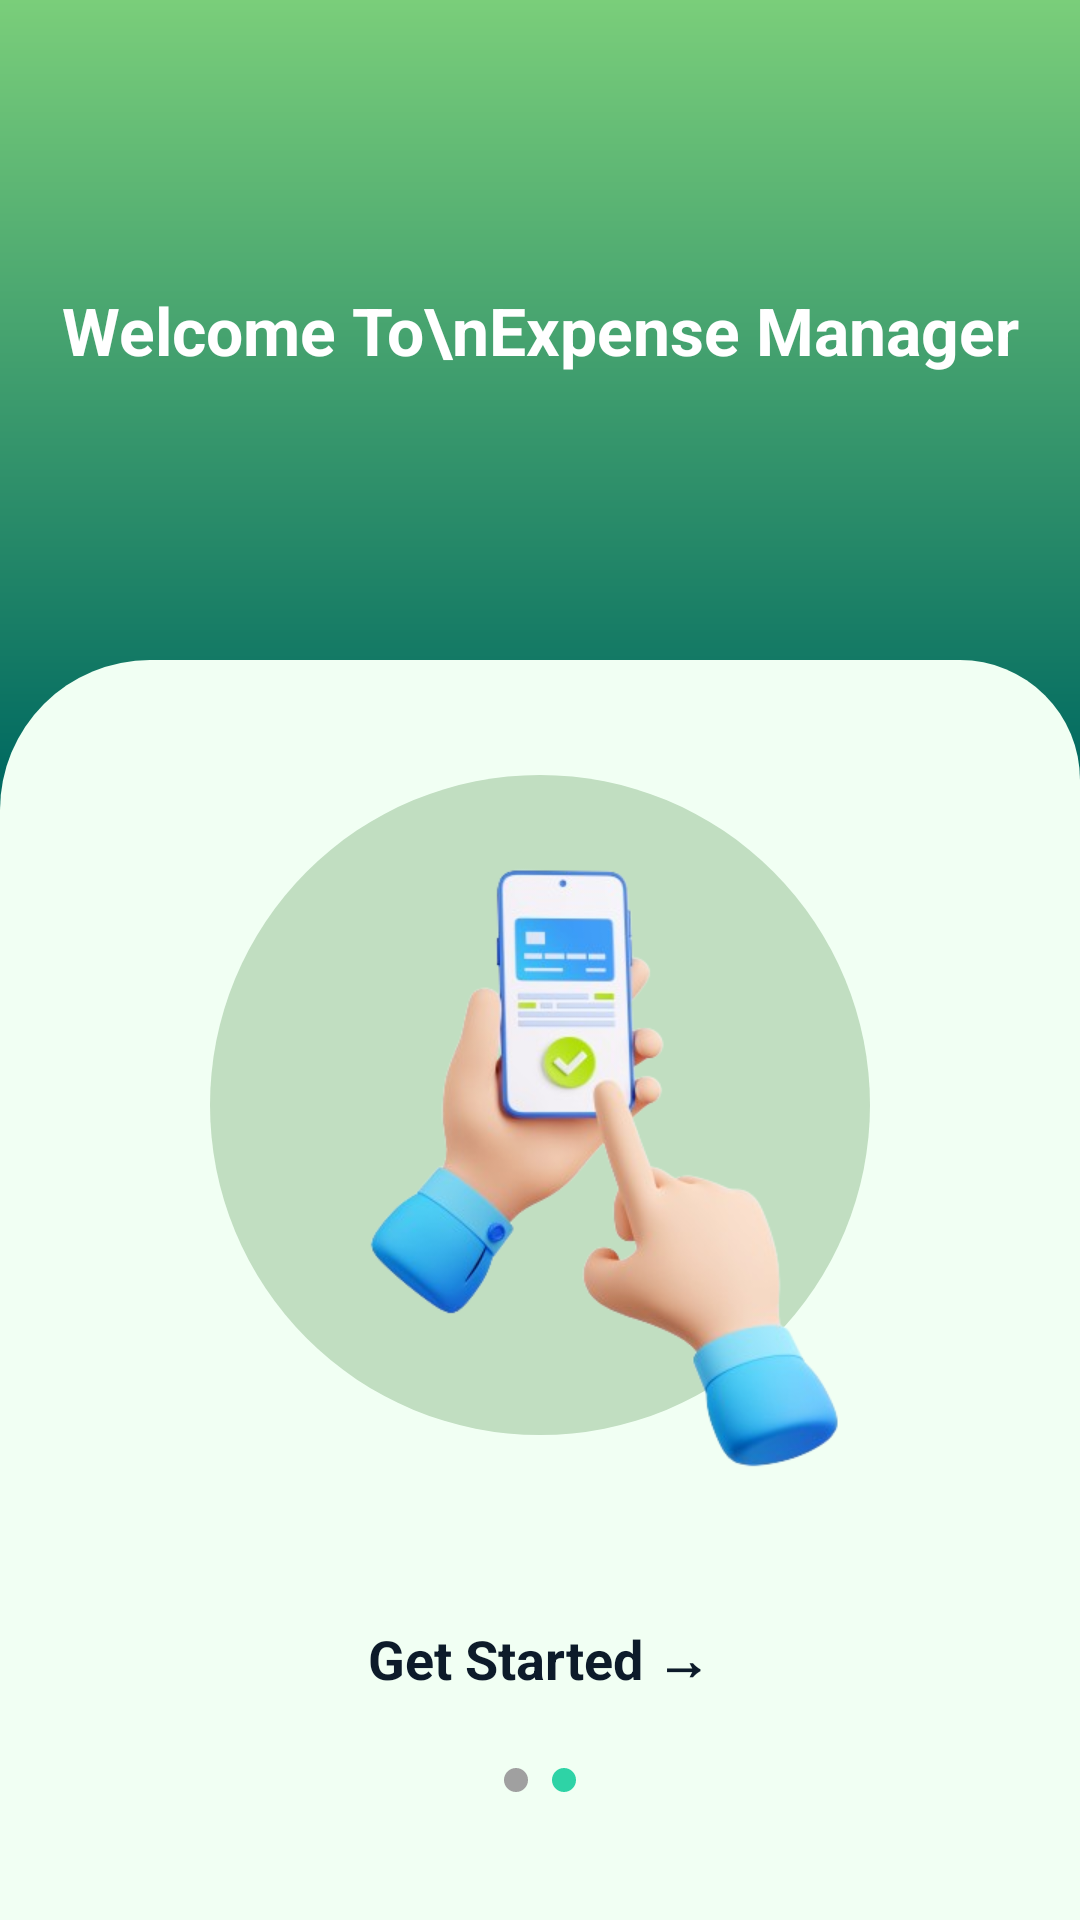

Named icons in this screenshot (1080px×1920px) and their centers, point (x, y):
dot: point (516, 1780), point (564, 1780)
